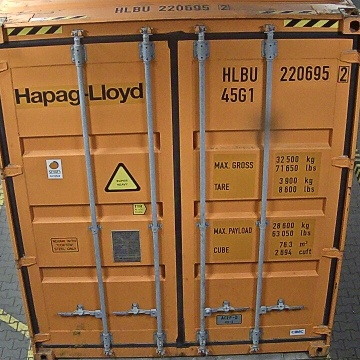serial_id: (223, 65, 349, 81)
